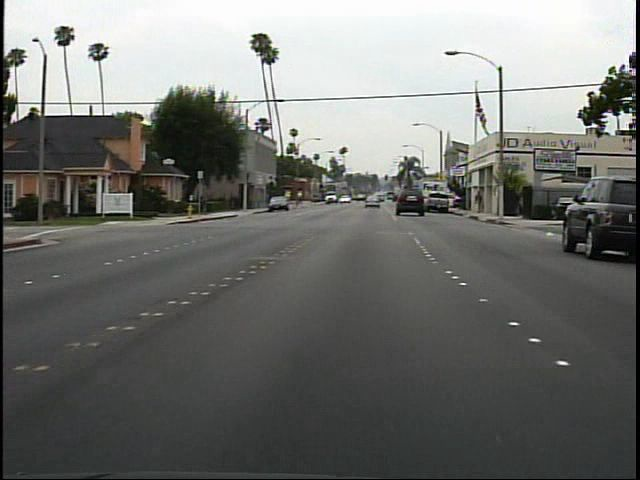person: (470, 187, 488, 217)
